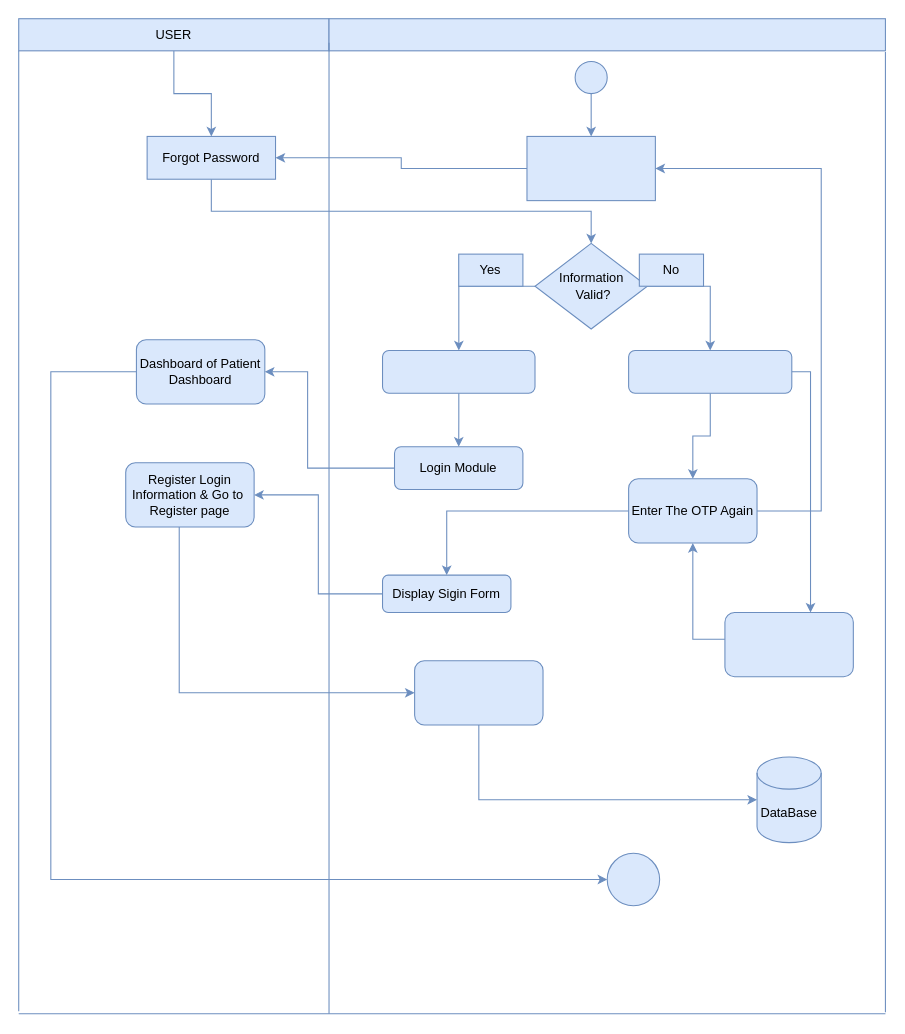
The diagram is 905 pixels wide and 1034 high, and some of its shapes have lost their labels. Here are the shapes that lost their labels. From the top down, the box of each, then its label:
(328, 18, 885, 51): System Login Page
(526, 135, 655, 201): Display Forgot Pasword on the Page
(381, 349, 535, 393): Display "Successful Password Changed"
(628, 349, 792, 393): Display "Your OTP is Incorrect"
(724, 612, 853, 677): Resend the OTP
(414, 660, 543, 725): Saves all the Information
